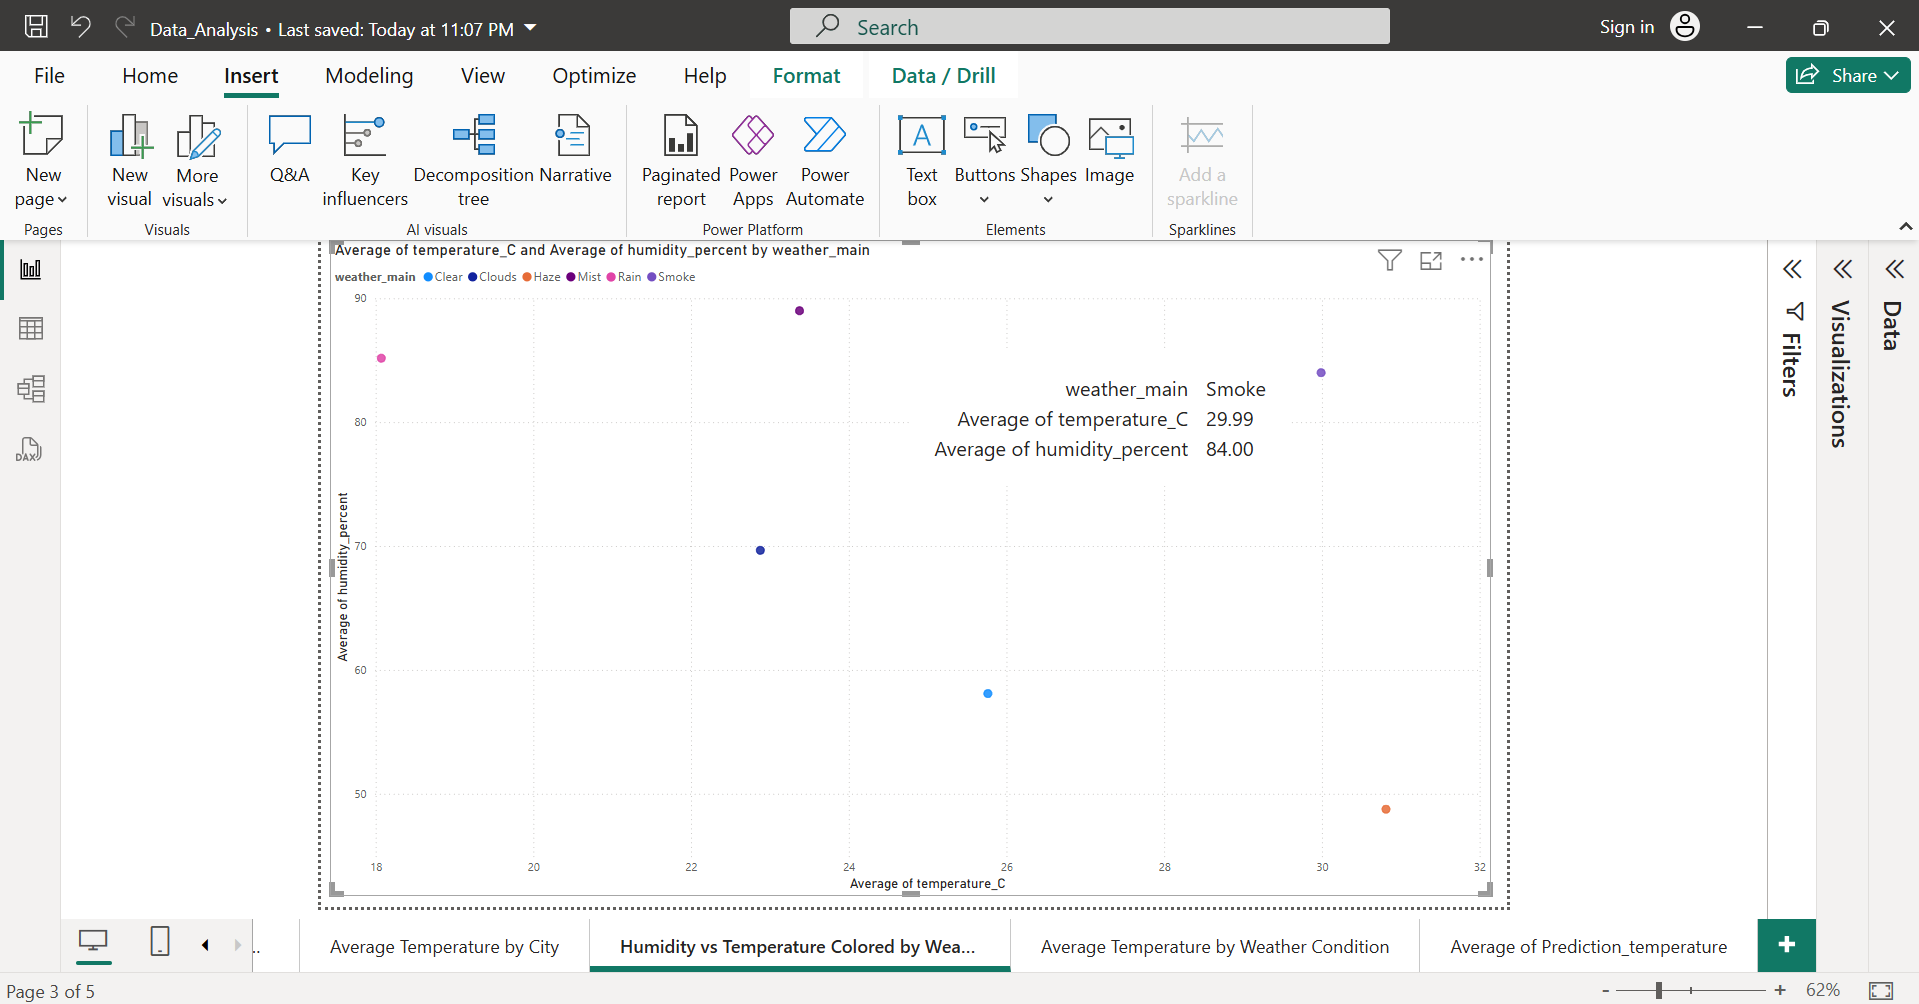

What the dashboard file says about the page in this screenshot:
{"tool":"powerbi","page":{"name":" Humidity vs Temperature Colored by Weather Type","canvas":[1280,720],"ordinal":2},"visuals":[{"type":"scatterChart","fields":{"X":["Avg(clean_weather.temperature_C)"],"Y":["Avg(clean_weather.humidity_percent)"],"Series":["clean_weather.weather_main"]},"box":[9.7,0,1253.3,707.6],"z":0}]}

Visuals, with their boxes on the page's 1280x720 design canvas (x1, y1, x2, y2). These are canvas units, not pixel positions in the 1919x1004 screenshot, which may show the page scaled, cropped or inside an application window:
scatterChart - Avg(clean_weather.temperature_C) x Avg(clean_weather.humidity_percent): (left=10, top=0, right=1263, bottom=708)
